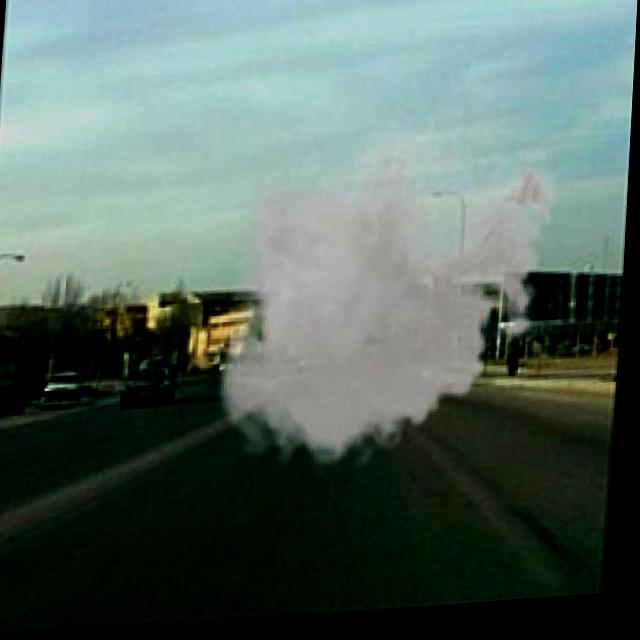no_helmet: (205, 117, 571, 488)
